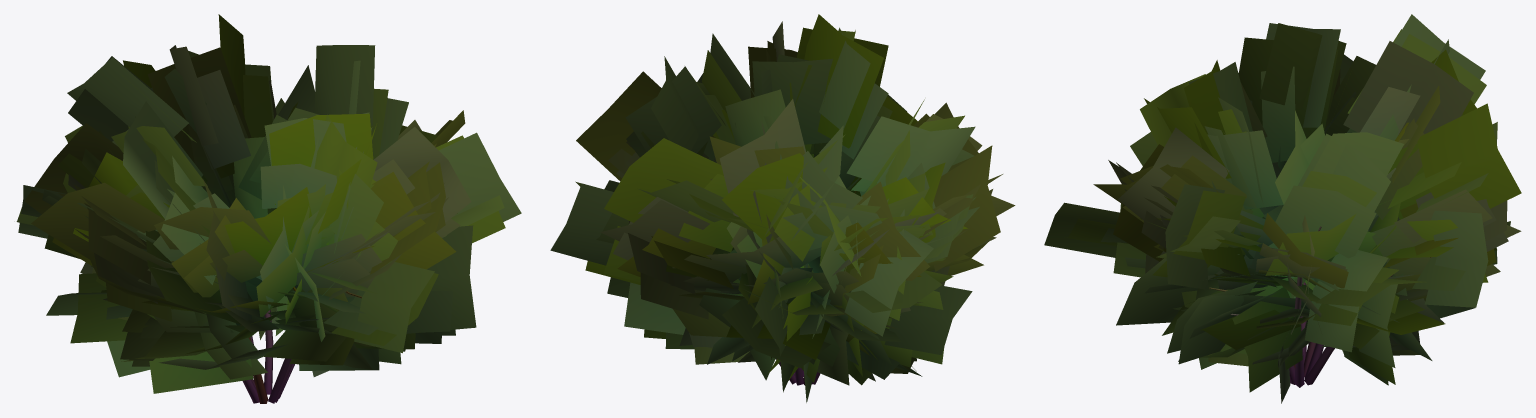
File: veg_bush_a.glb
3 views of the same model, side by side, from view 1: azimuth 30°, elevation 25°; view 2: azimuth 150°, elevation 25°; view 3: azimuth 270°, elevation 25° (orthographic).
Visible parts, largest first — view 1: veg_bush_a_LOD0; view 2: veg_bush_a_LOD0; view 3: veg_bush_a_LOD0.
Boxes of the visible parts, x1,y1,x2,y2 form: veg_bush_a_LOD0: (16,14,521,403); veg_bush_a_LOD0: (550,14,1015,402); veg_bush_a_LOD0: (1044,14,1521,403).
Size of what is drawn, in the model's own units: 1.83 by 1.36 by 1.81.
